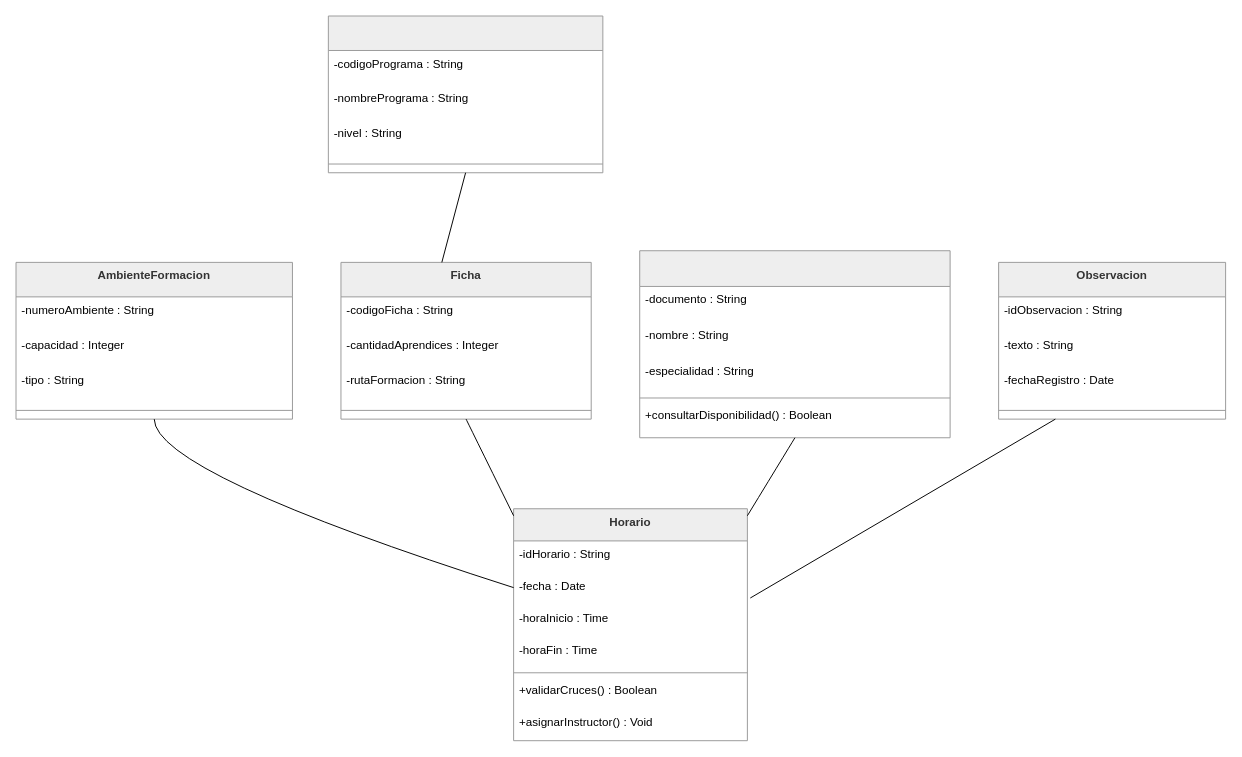
The diagram is 1242 pixels wide and 757 high, and some of its shapes have lost their labels. Here are the shapes that lost their labels. From the top down, the box of each, then its label:
(327, 15, 603, 173): ProgramaFormacion
(639, 250, 950, 438): Instructor
